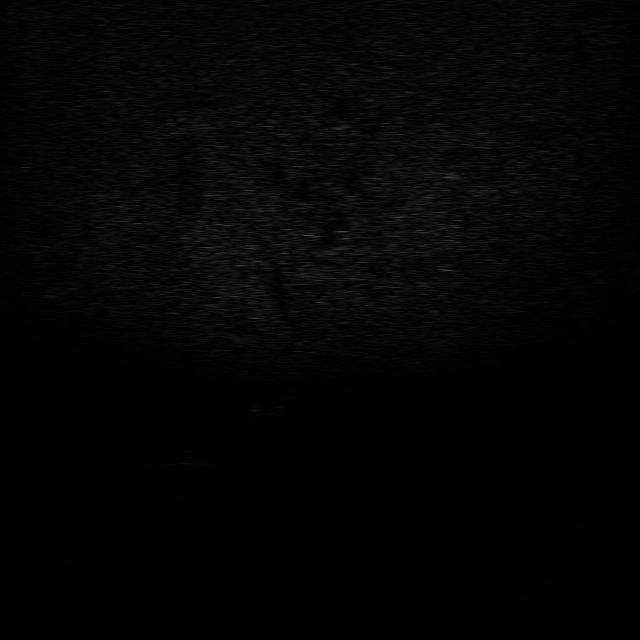ball: (165, 444, 211, 470)
human body: (238, 388, 294, 420)
